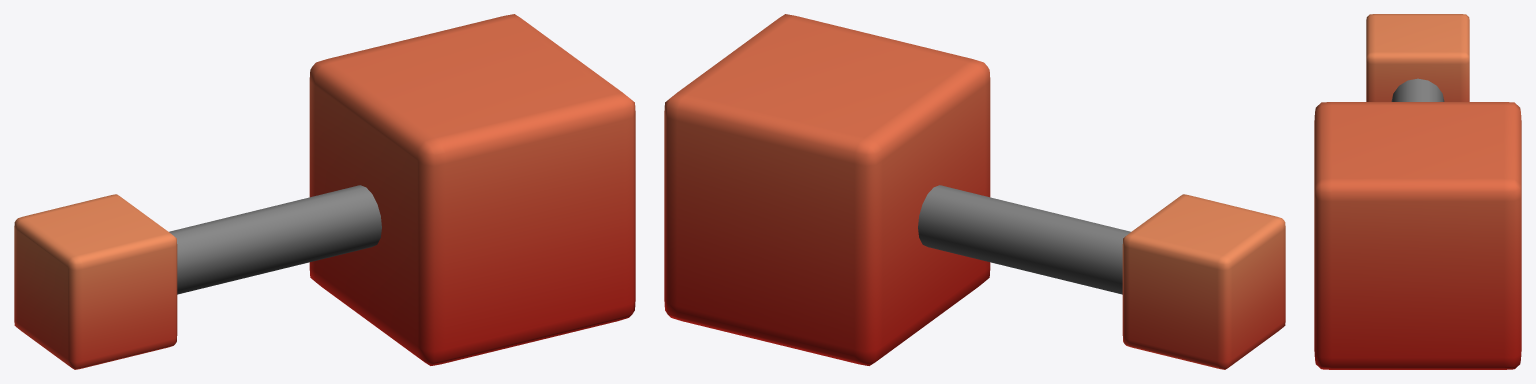
The model's file is yumruk.fbx.
3 renders of one model, left to right at view 1: azimuth 30°, elevation 25°; view 2: azimuth 150°, elevation 25°; view 3: azimuth 270°, elevation 25°, orthographic. The views are drawn at different scales.
Visible parts, largest first — view 1: Cube.002, Cube.003; view 2: Cube.002, Cube.003; view 3: Cube.002, Cube.003.
Boxes of the visible parts, box(x1,y1,x2,y2) form: Cube.002: box(309, 14, 635, 365); Cube.003: box(14, 185, 381, 369); Cube.002: box(664, 14, 990, 365); Cube.003: box(918, 185, 1285, 369); Cube.002: box(1314, 102, 1521, 369); Cube.003: box(1366, 14, 1469, 101).
Size of the model in its own units: 6.77 by 2.68 by 2.68.
1 material, 1 textured.
